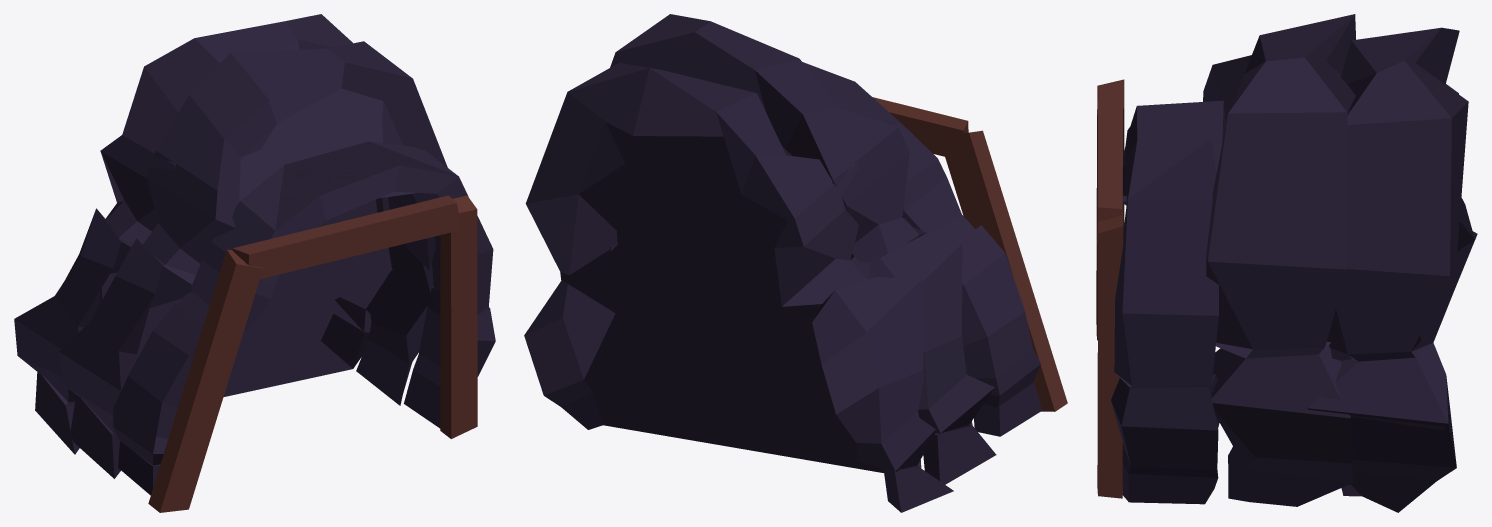
File: caverna.glb
3 views of the same model, side by side, from view 1: azimuth 30°, elevation 25°; view 2: azimuth 150°, elevation 25°; view 3: azimuth 270°, elevation 25° (orthographic). The views are drawn at different scales.
Visible parts, largest first — view 1: Pedra.001, Pedra.002, Pedra, Cube, Cube.001, Cube.002; view 2: Pedra.002, Pedra.001, Pedra, Cube, Cube.002; view 3: Pedra.001, Pedra.002, Pedra, Cube.001, Cube.002, Cube.
Part boxes in pixels (x1,y1,x2,y2): Pedra.001: (59, 41, 447, 478); Pedra.002: (14, 14, 392, 454); Pedra: (113, 141, 495, 495); Cube: (148, 249, 262, 512); Cube.001: (440, 195, 477, 438); Cube.002: (232, 195, 462, 279); Pedra.002: (524, 62, 953, 512); Pedra.001: (609, 14, 996, 484); Pedra: (802, 62, 1041, 436); Cube: (939, 130, 1067, 411); Cube.002: (872, 97, 968, 156); Pedra.001: (1203, 14, 1355, 506); Pedra.002: (1306, 27, 1477, 512); Pedra: (1111, 100, 1225, 504); Cube.001: (1097, 210, 1123, 498); Cube.002: (1097, 82, 1123, 244); Cube: (1096, 79, 1124, 340).
Bounding box in the file's own units: 3.27 × 3.15 × 2.55.
